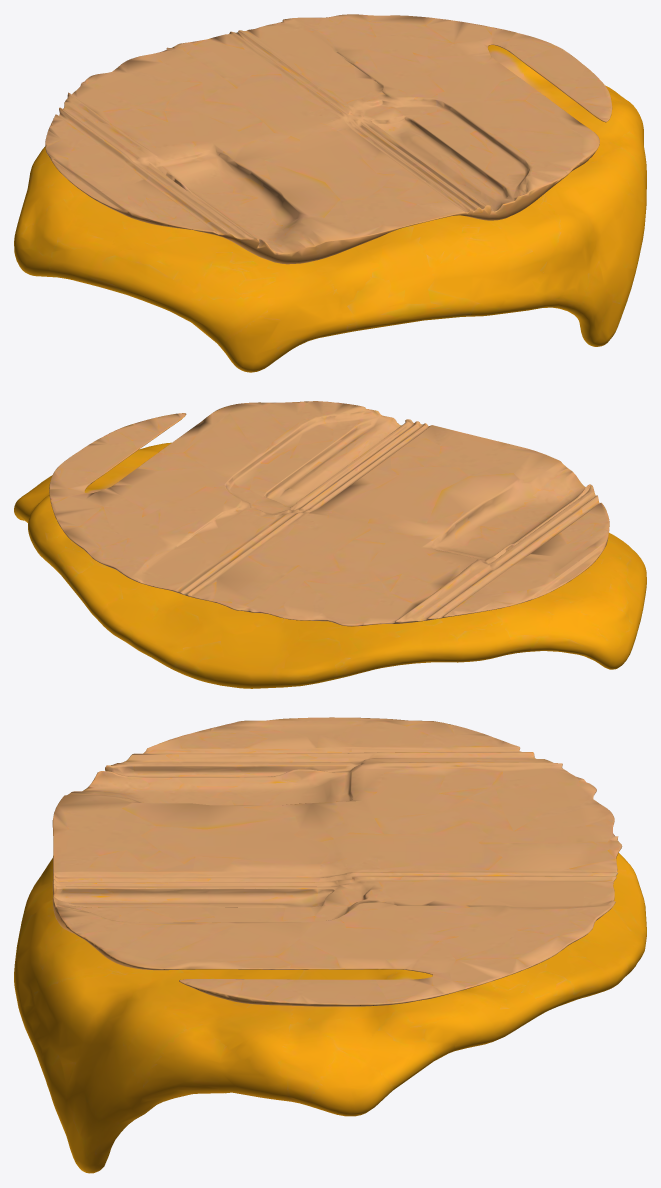
File: cheese.glb
3 renders of one model, top to bottom at view 1: azimuth 30°, elevation 25°; view 2: azimuth 150°, elevation 25°; view 3: azimuth 270°, elevation 25°, orthographic. The views are drawn at different scales.
Size of the model in its own units: 1.9 by 0.5578 by 1.46.
Materials: 1 (1 with a texture image).
